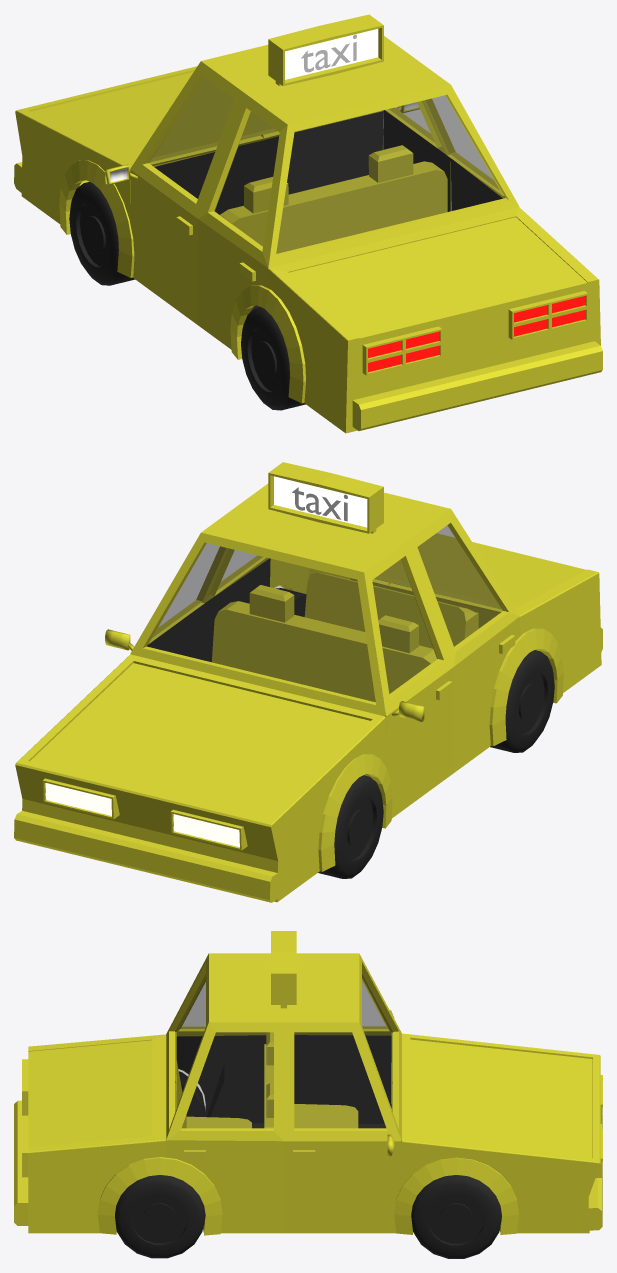
File: taxi.gltf
3 views of the same model, one above another, from view 1: azimuth 30°, elevation 25°; view 2: azimuth 150°, elevation 25°; view 3: azimuth 270°, elevation 25° (orthographic). The views are drawn at different scales.
Parts seen in each view (by area): view 1: bodyCar, bodyCar.001, Trank, CarHood, Flaps, WheelL-F, WheelsBack, text-Tax; view 2: bodyCar, bodyCar.001, CarHood, Trank, Flaps, WheelsBack, WheelL-F, Text-Taxi; view 3: bodyCar, bodyCar.001, CarHood, Trank, Flaps, WheelsBack, WheelR-F, hundleDoor.
Boxes of the visible parts, box(x1,y1,x2,y2) form: bodyCar: box(14, 14, 602, 433); bodyCar.001: box(149, 78, 504, 253); Trank: box(289, 217, 588, 380); CarHood: box(31, 72, 273, 163); Flaps: box(59, 160, 305, 403); WheelL-F: box(69, 182, 134, 285); WheelsBack: box(241, 307, 305, 410); text-Tax: box(301, 34, 356, 72); bodyCar: box(14, 462, 602, 902); bodyCar.001: box(147, 525, 502, 701); CarHood: box(30, 663, 370, 818); Trank: box(379, 533, 586, 608); Flaps: box(279, 584, 563, 871); WheelsBack: box(275, 588, 554, 752); WheelL-F: box(318, 775, 383, 878); Text-Taxi: box(292, 487, 347, 521); bodyCar: box(14, 931, 602, 1233); bodyCar.001: box(175, 974, 392, 1127); CarHood: box(410, 1039, 592, 1158); Trank: box(22, 1040, 152, 1177); Flaps: box(97, 1069, 518, 1235); WheelsBack: box(115, 1071, 204, 1258); WheelR-F: box(411, 1175, 501, 1258); hundleDoor: box(184, 1150, 315, 1159).
Bounding box in the file's own units: 4.94 × 4.36 × 9.21.
